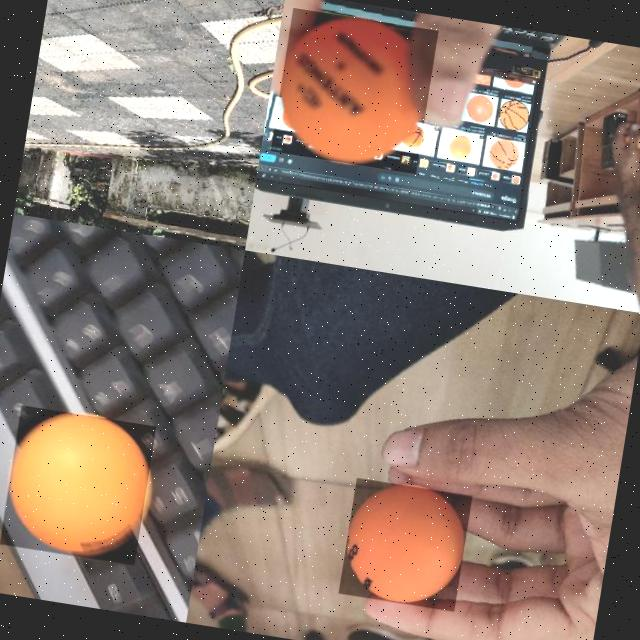ping-pong-ball: (269, 6, 438, 173), (0, 402, 156, 564), (336, 476, 472, 610)
